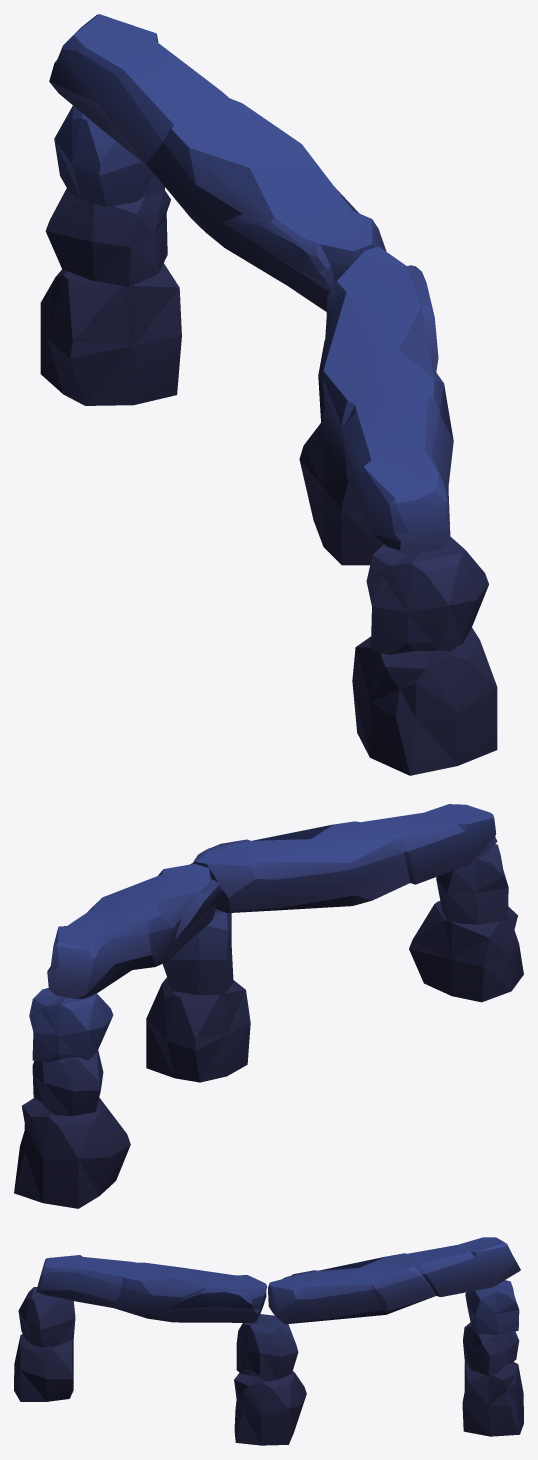
The model's file is caveRunning1.fbx.
3 renders of one model, top to bottom at view 1: azimuth 30°, elevation 25°; view 2: azimuth 150°, elevation 25°; view 3: azimuth 270°, elevation 25°, orthographic. The views are drawn at different scales.
Parts seen in each view (by area): view 1: caveRunning1; view 2: caveRunning1; view 3: caveRunning1.
Part boxes in pixels (box(x1,y1,x2,y2)): caveRunning1: box(40, 14, 497, 775); caveRunning1: box(14, 804, 523, 1208); caveRunning1: box(14, 1237, 523, 1445).
Bounding box in the file's own units: 307 × 375 × 961.
